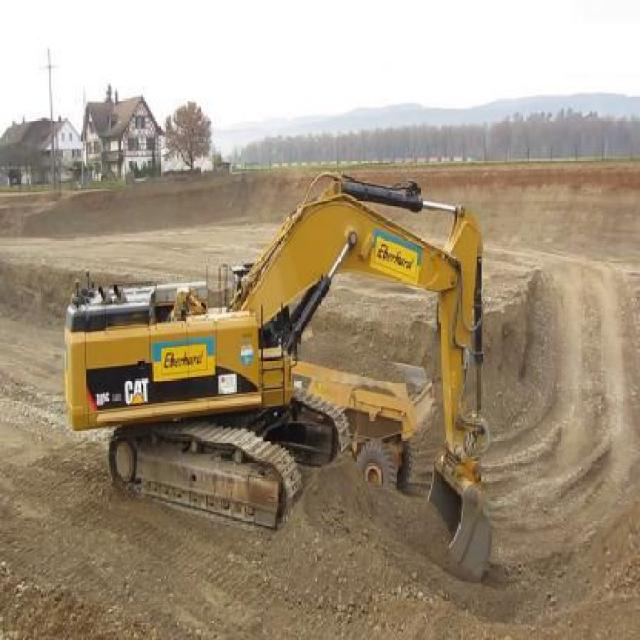Dump Truck: (290, 327, 435, 493)
Excavator: (63, 168, 492, 584)
